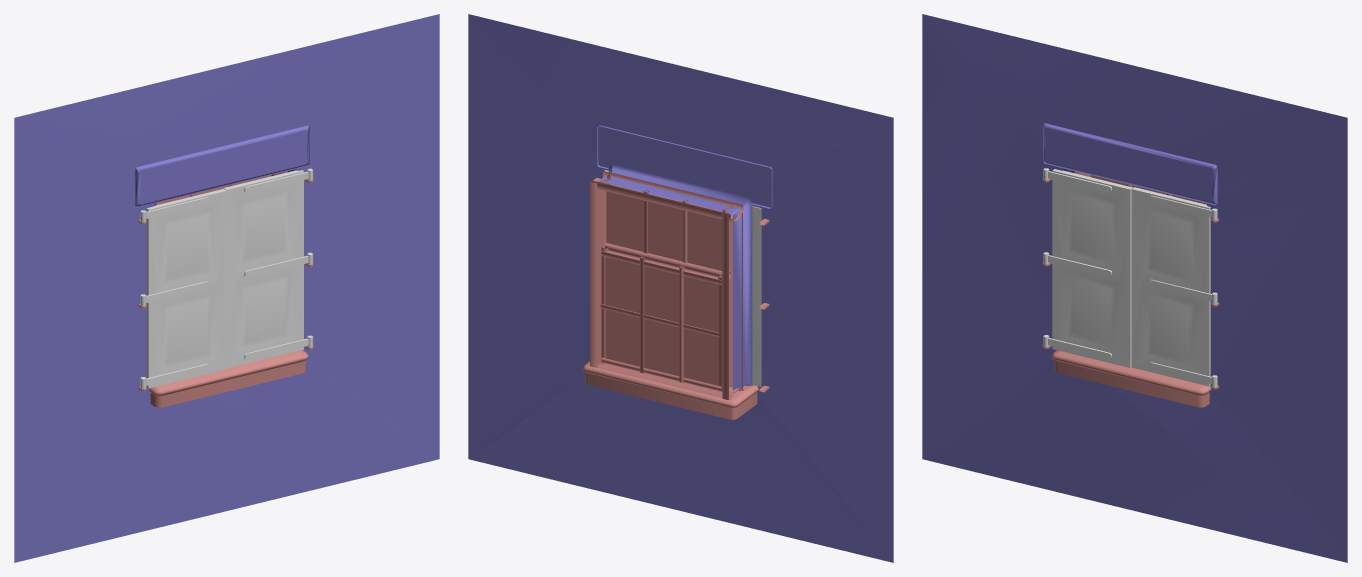
File: window_01.fbx
3 views of the same model, side by side, from view 1: azimuth 30°, elevation 25°; view 2: azimuth 150°, elevation 25°; view 3: azimuth 330°, elevation 25° (orthographic).
Parts seen in each view (by area): view 1: Plane.027, Cube.040, Cube.041, Plane.028; view 2: Plane.027, Plane.028, Cube.040; view 3: Plane.027, Cube.040, Cube.041, Plane.028.
Boxes of the visible parts, <box> form: Plane.027: <box>14,14,439,562</box>; Cube.040: <box>140,189,226,388</box>; Cube.041: <box>223,168,313,368</box>; Plane.028: <box>138,171,313,407</box>; Plane.027: <box>468,14,893,562</box>; Plane.028: <box>583,170,769,419</box>; Cube.040: <box>752,206,761,386</box>; Plane.027: <box>922,14,1347,562</box>; Cube.040: <box>1043,168,1132,367</box>; Cube.041: <box>1131,187,1217,387</box>; Plane.028: <box>1042,171,1219,407</box>.
Bounding box in the file's own units: 4 × 4 × 0.5096.
